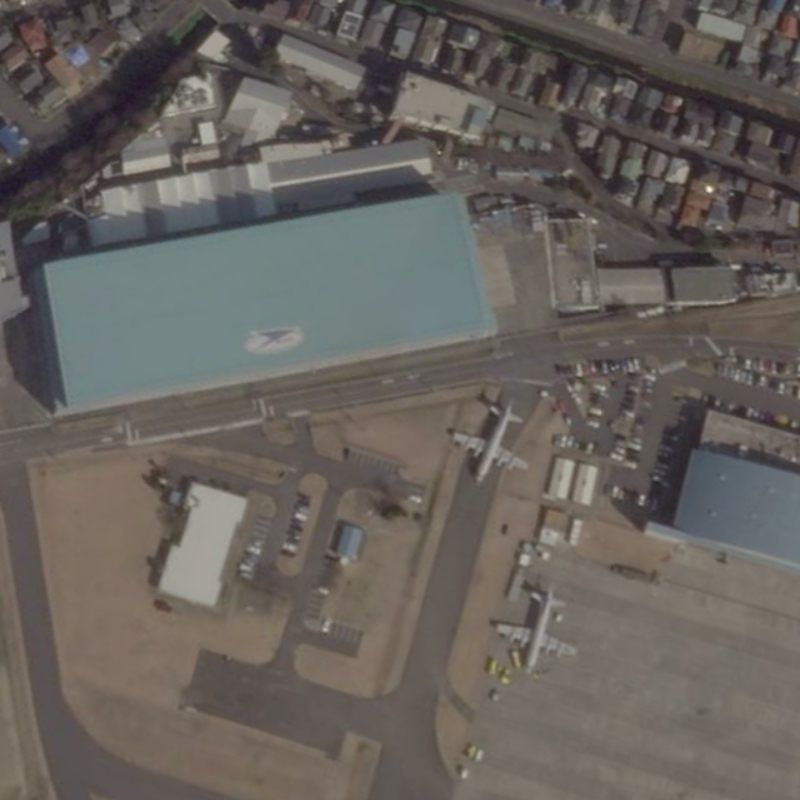A9: (490, 578, 581, 675), (444, 392, 532, 487)
